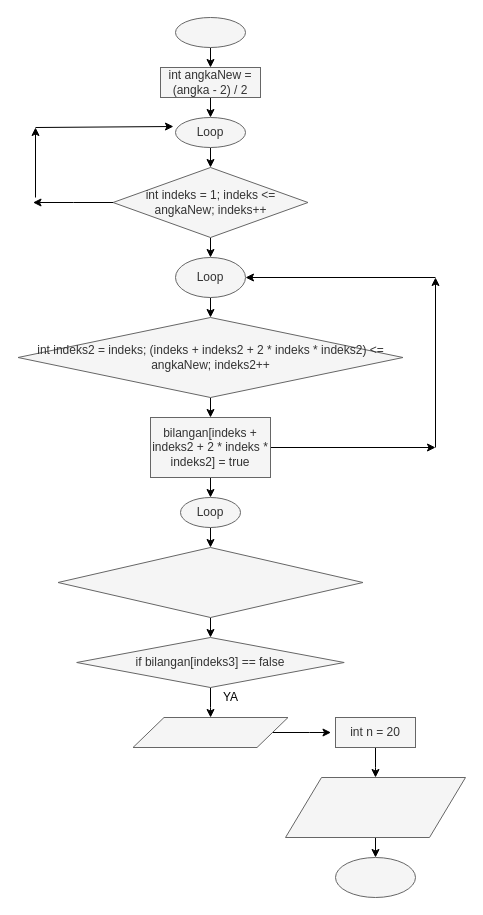
This 483x915 diagram has some shape labels left out. Each missing label, with the centre of its shape:
"int indeks3 = 1; indeks3 <= angkaNew; indeks3++" belongs at (x=210, y=582).
"Mulai" belongs at (x=210, y=32).
"Print 2 * indeks3 + 1" belongs at (x=210, y=732).
"Print SieveOfSundaram(n)" belongs at (x=375, y=807).
